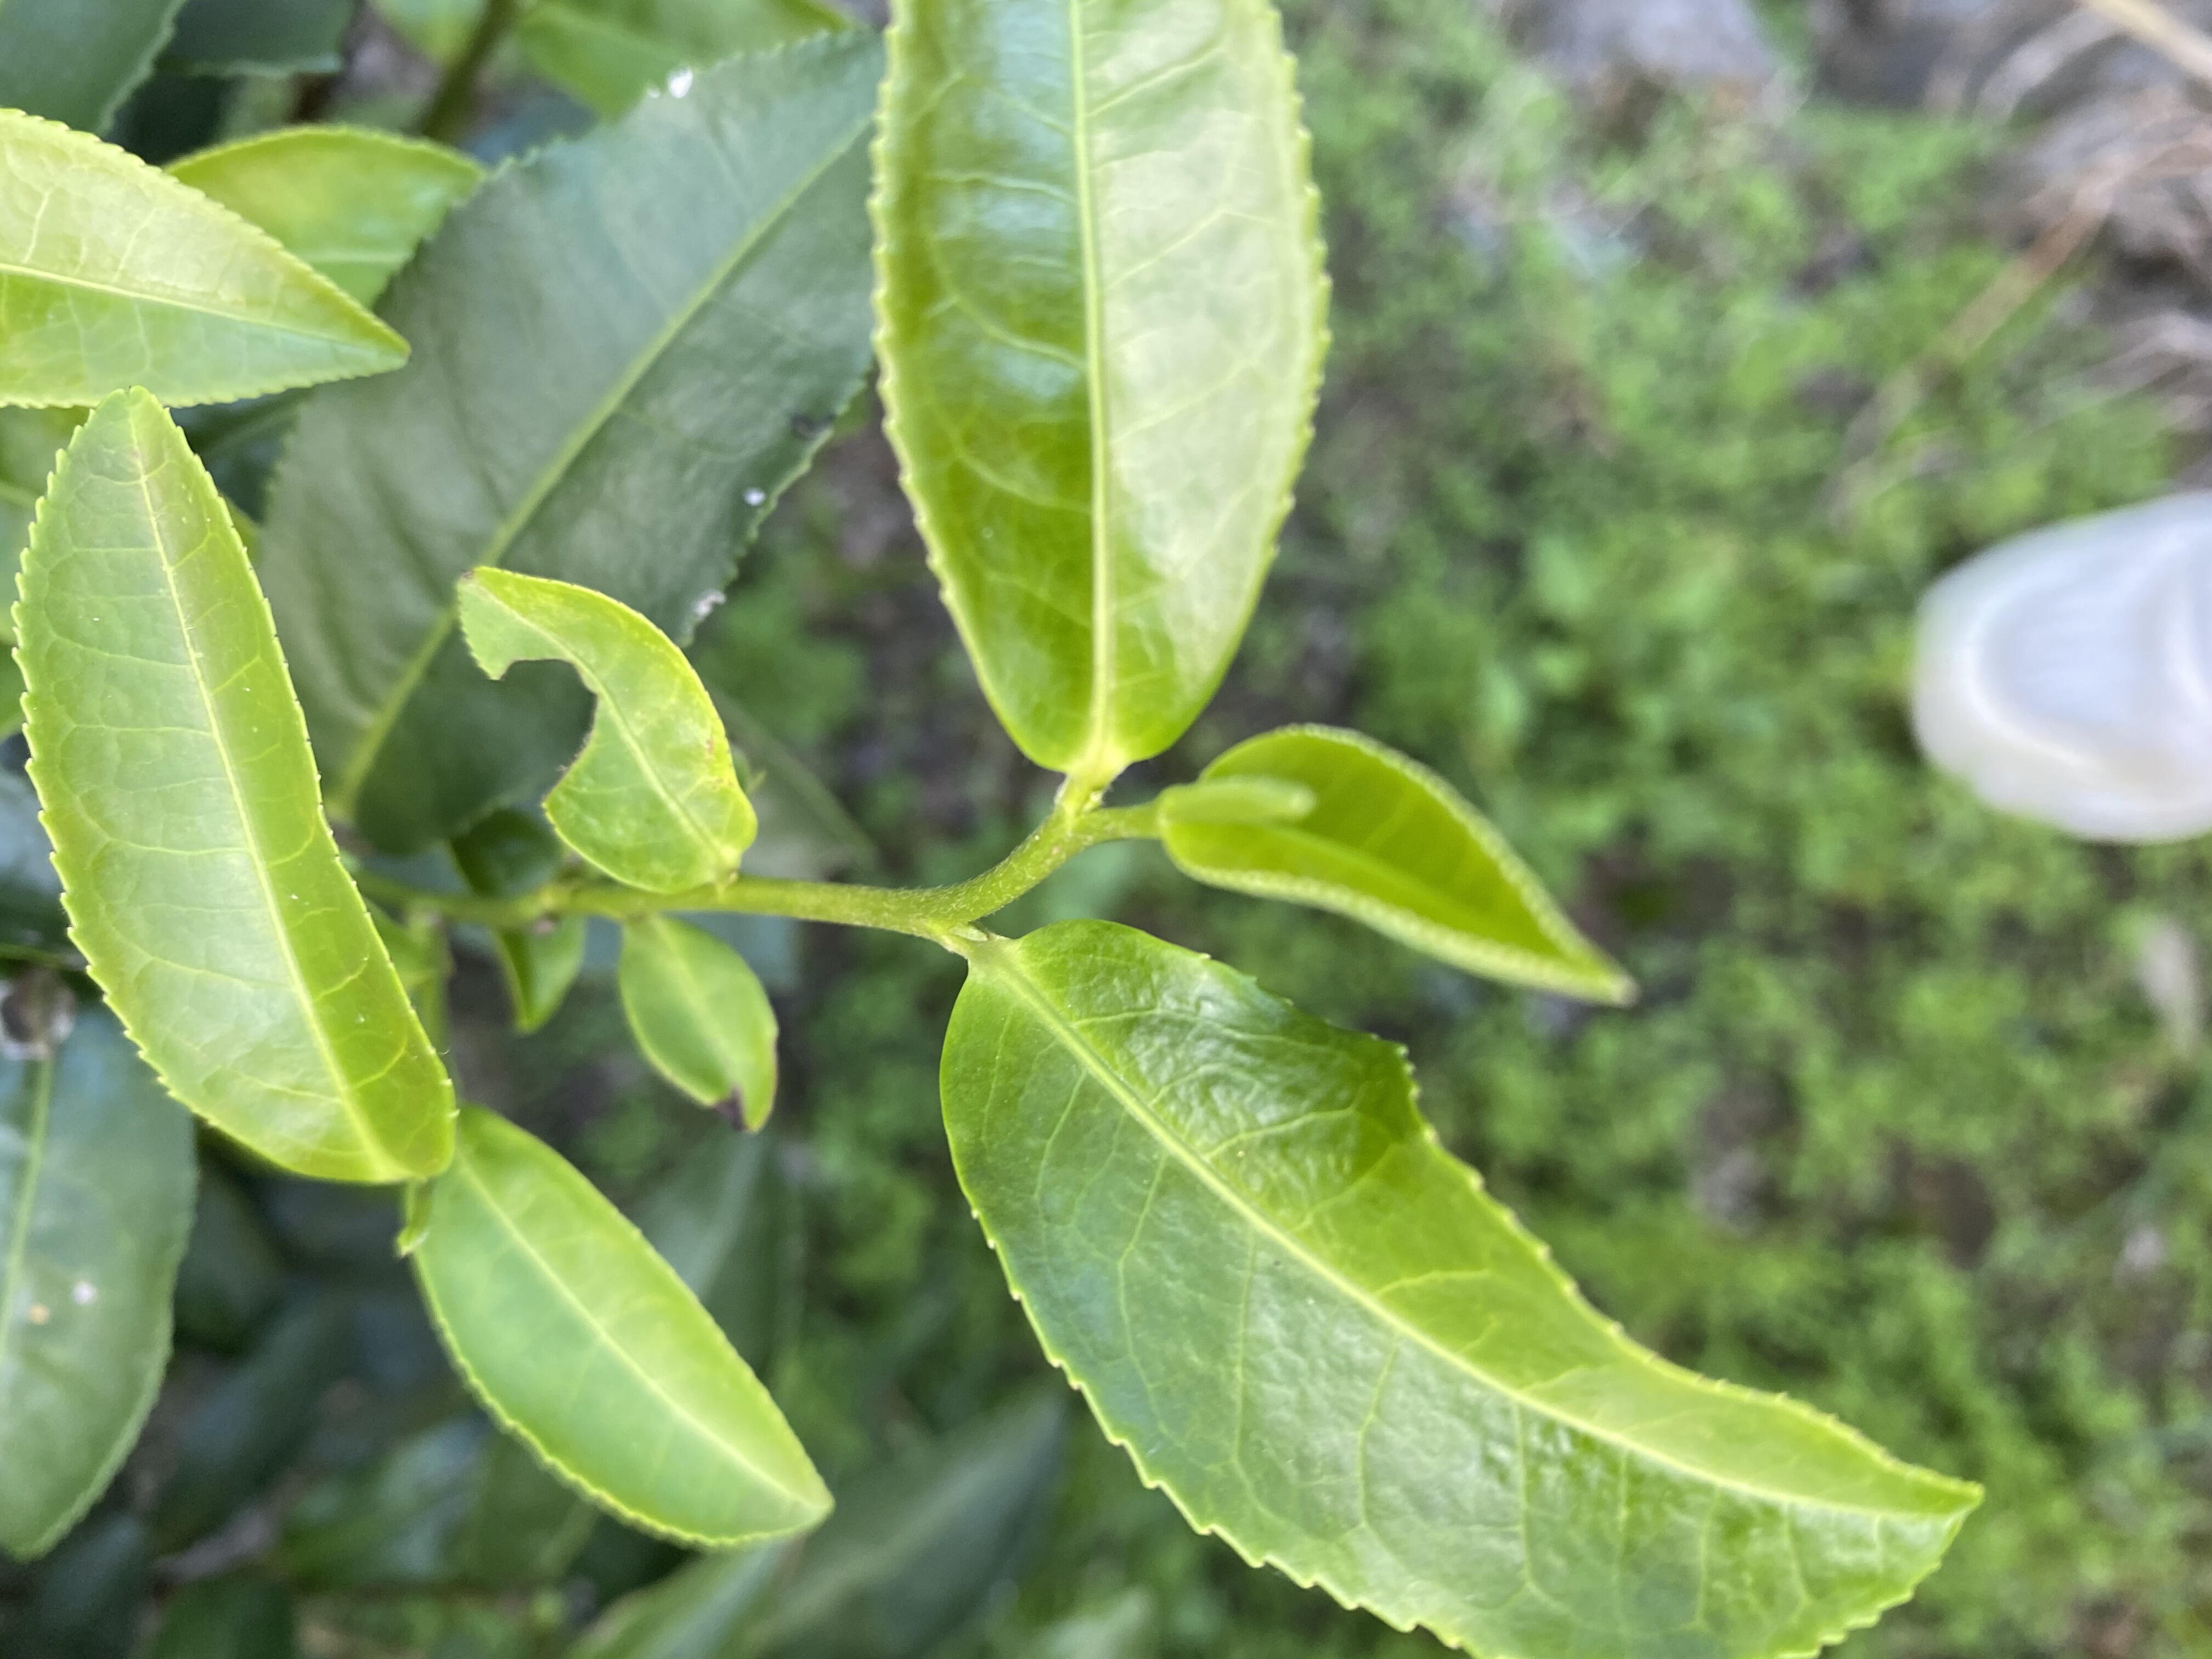chihuo_low: (453, 563, 759, 896)
healthy: (939, 918, 1991, 1656), (862, 7, 1336, 779), (7, 387, 458, 1192), (401, 1108, 833, 1544), (1158, 725, 1637, 1002), (5, 101, 415, 413)
tanju_low: (270, 21, 869, 835)
